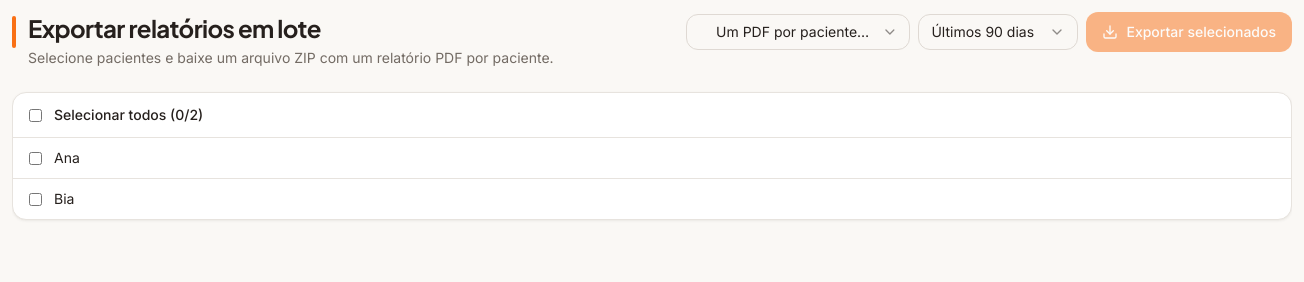
Test: Exportar em lote — formato padrão ZIP › por padrão baixa um ZIP com um PDF por paciente (e não o PDF único)
Expected: the text "ZIP com um relatório PDF por paciente" is shown, [28, 49, 554, 66]
Click the checkbox labelled "Selecionar todos". click: [36, 115]
box: [29, 108, 42, 122]
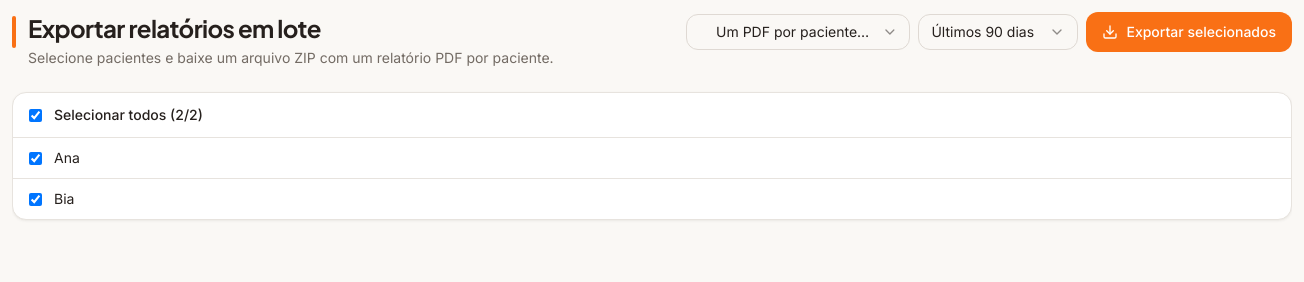
Click the button "Exportar selecionados". click: [1189, 32]
box: [1086, 12, 1292, 52]
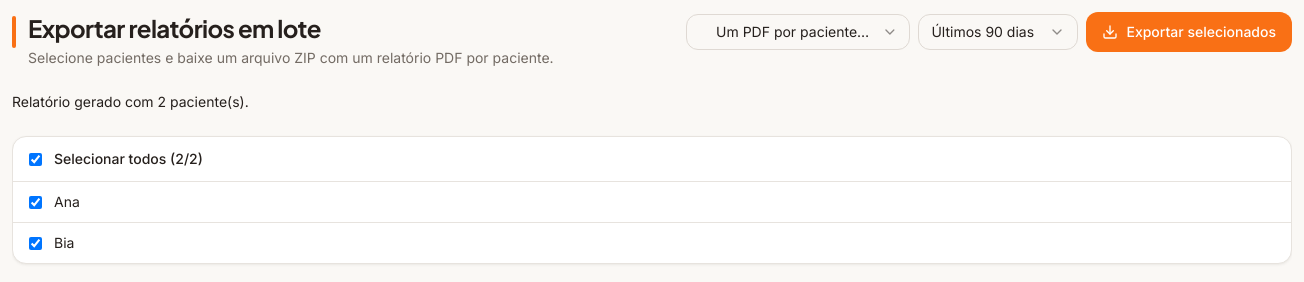
Expected: the message reads "Relatório gerado com 2 paciente(s).", [12, 93, 249, 110]
